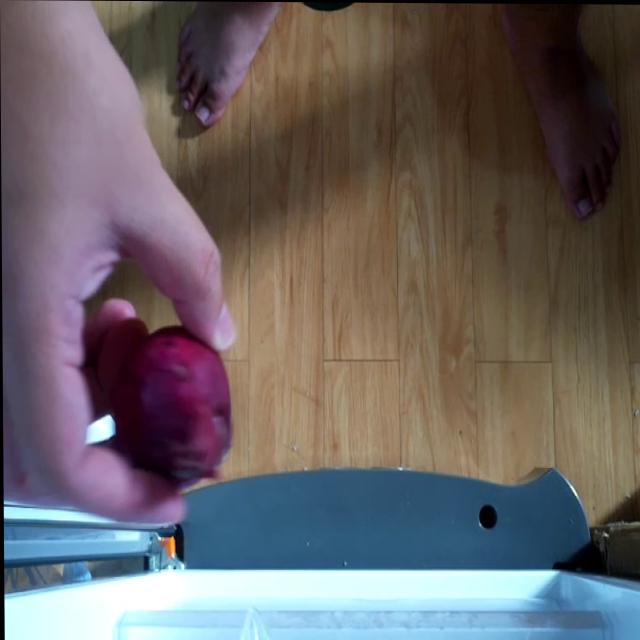onion: (81, 314, 232, 492)
